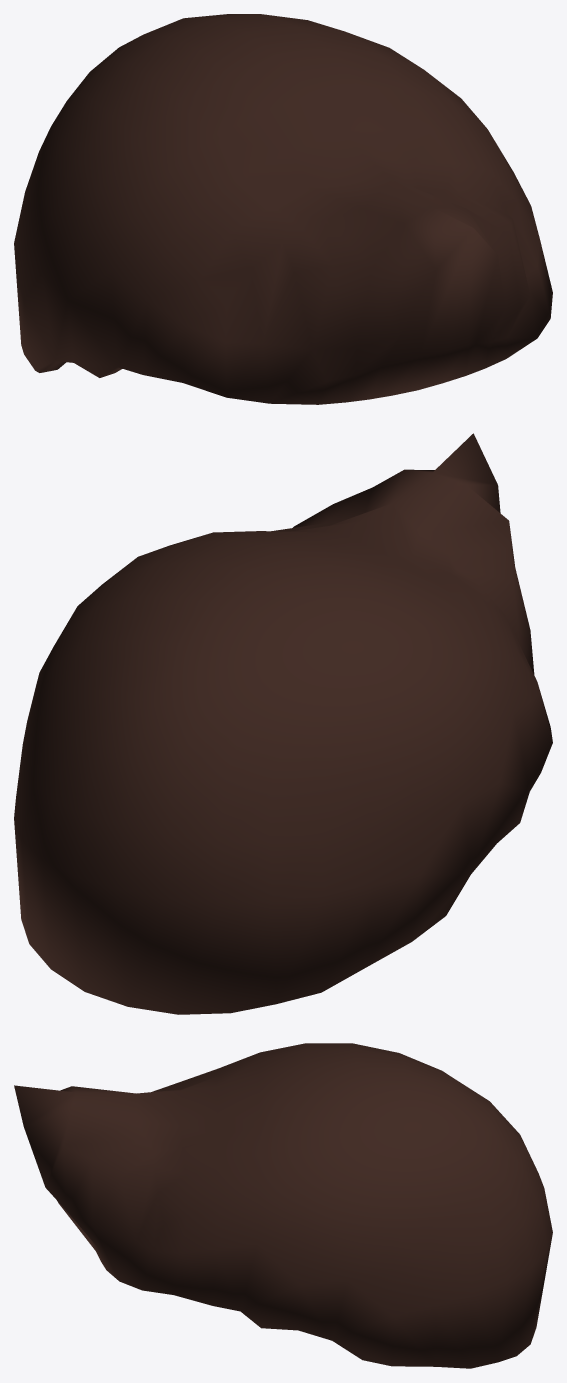
The model's file is Hair08.fbx.
3 renders of one model, top to bottom at view 1: azimuth 30°, elevation 25°; view 2: azimuth 150°, elevation 25°; view 3: azimuth 270°, elevation 25°, orthographic. The views are drawn at different scales.
Visible parts, largest first — view 1: Hair08; view 2: Hair08; view 3: Hair08.
Part boxes in pixels (box(x1,y1,x2,y2)): Hair08: box(14, 14, 552, 404); Hair08: box(14, 433, 552, 1014); Hair08: box(14, 1043, 552, 1368).
Size of the model in its own units: 26.61 by 20.56 by 38.04.
